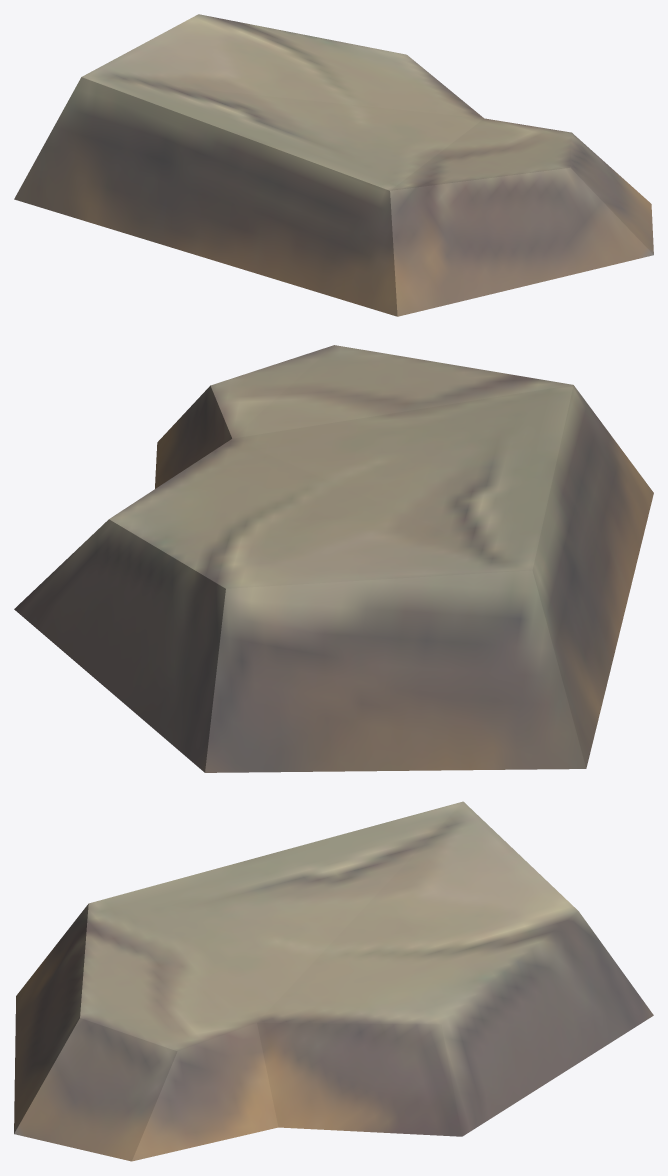
The model's file is map_7004_xsk_04.FBX.
3 views of the same model, one above another, from view 1: azimuth 30°, elevation 25°; view 2: azimuth 150°, elevation 25°; view 3: azimuth 270°, elevation 25° (orthographic). The views are drawn at different scales.
Parts seen in each view (by area): view 1: map_7004_xsk_04; view 2: map_7004_xsk_04; view 3: map_7004_xsk_04.
Part boxes in pixels (box(x1,y1,x2,y2)): map_7004_xsk_04: box(14, 14, 653, 316); map_7004_xsk_04: box(14, 345, 653, 772); map_7004_xsk_04: box(14, 801, 653, 1161).
Size of the model in its own units: 0.918 by 0.222 by 0.9699.
